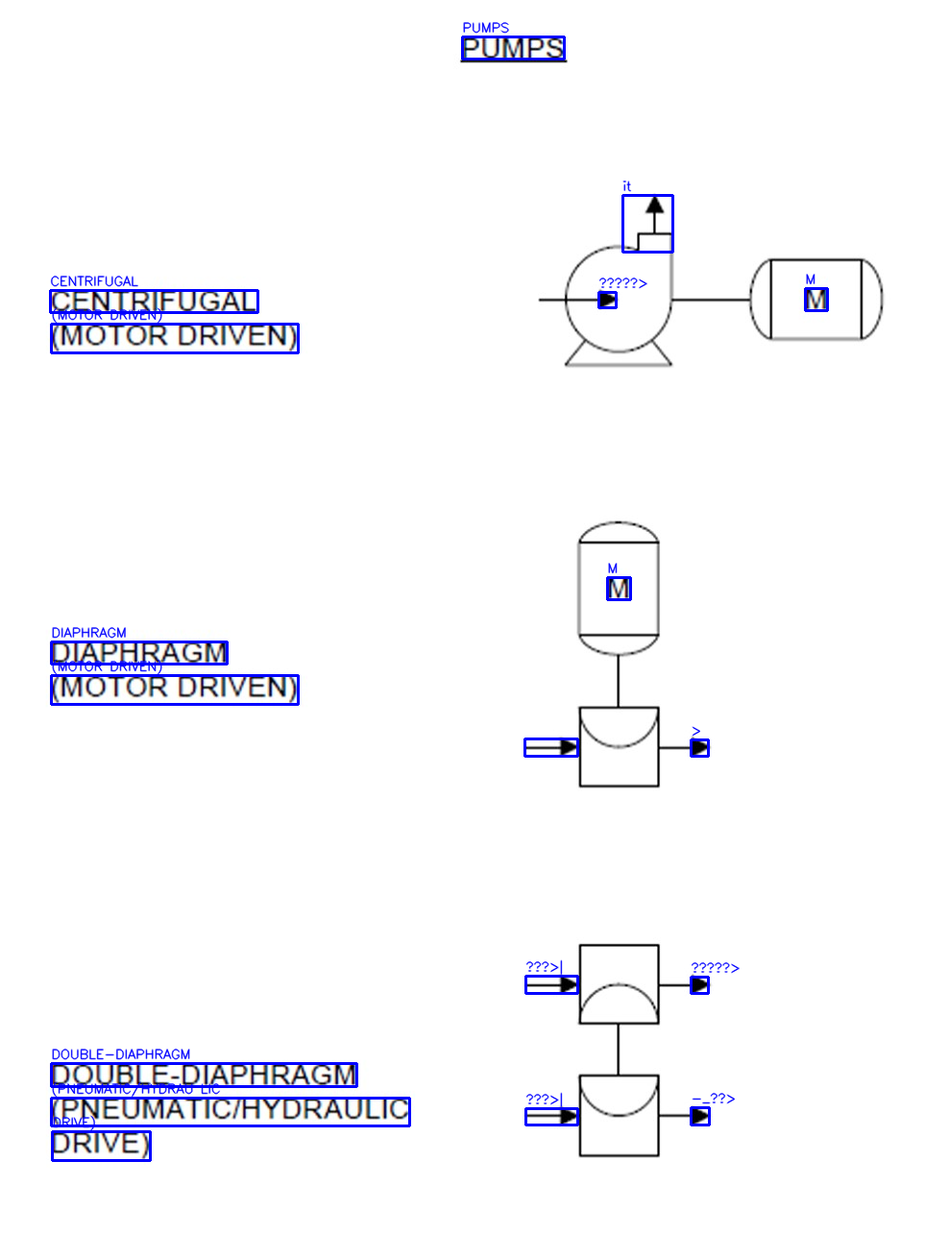Bomba: (528, 183, 690, 371), (572, 937, 666, 1164), (572, 695, 677, 794)
Motor: (737, 252, 895, 351), (571, 512, 668, 664)
